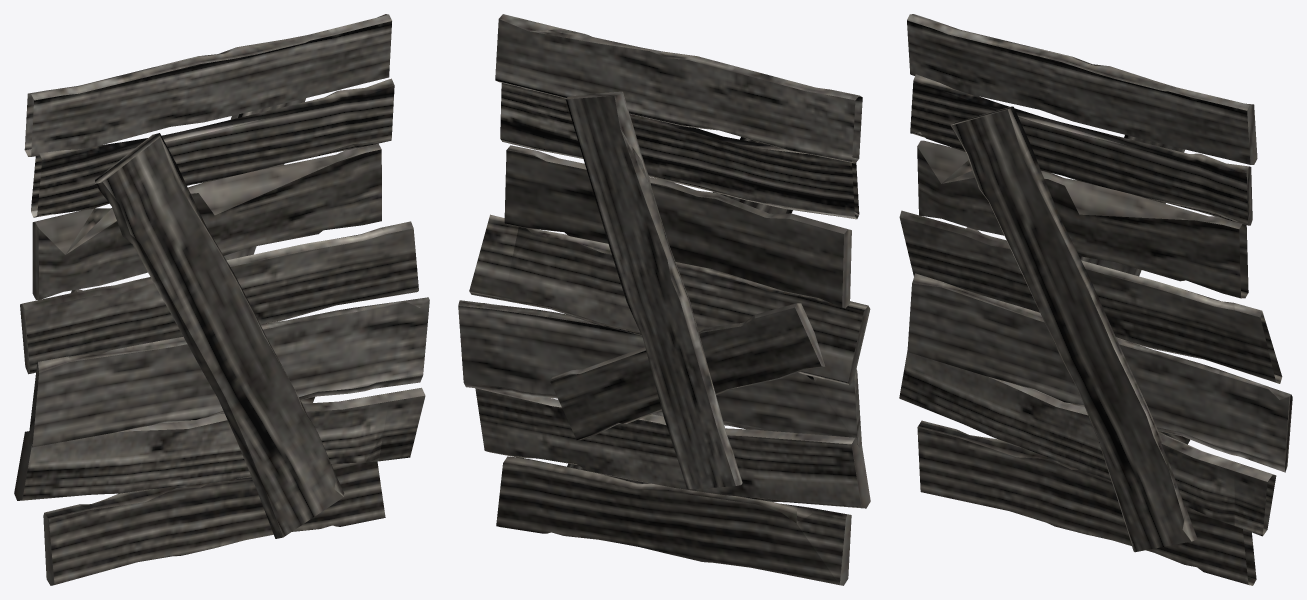
File: WindowBlocker.fbx
3 views of the same model, side by side, from view 1: azimuth 30°, elevation 25°; view 2: azimuth 150°, elevation 25°; view 3: azimuth 330°, elevation 25° (orthographic). The views are drawn at different scales.
Parts seen in each view (by area): view 1: SM_BRL_WindowBlocker01.mo; view 2: SM_BRL_WindowBlocker01.mo; view 3: SM_BRL_WindowBlocker01.mo.
Part boxes in pixels (box(x1,y1,x2,y2)): SM_BRL_WindowBlocker01.mo: box(14, 14, 429, 585); SM_BRL_WindowBlocker01.mo: box(458, 14, 870, 585); SM_BRL_WindowBlocker01.mo: box(899, 14, 1292, 585).
Bounding box in the file's own units: 170 × 205 × 25.6.
